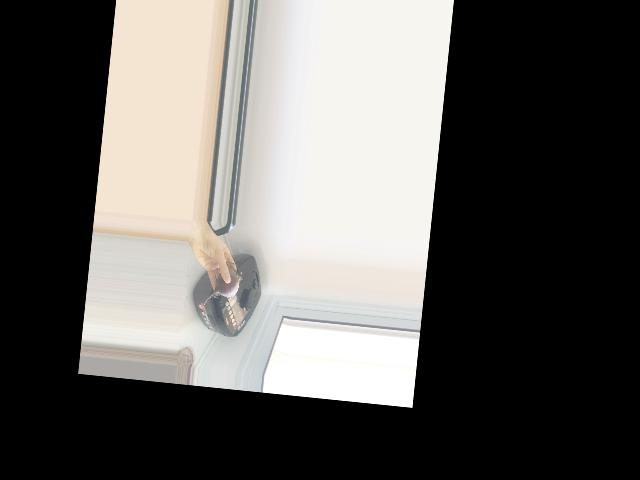beet: (203, 260, 243, 308)
